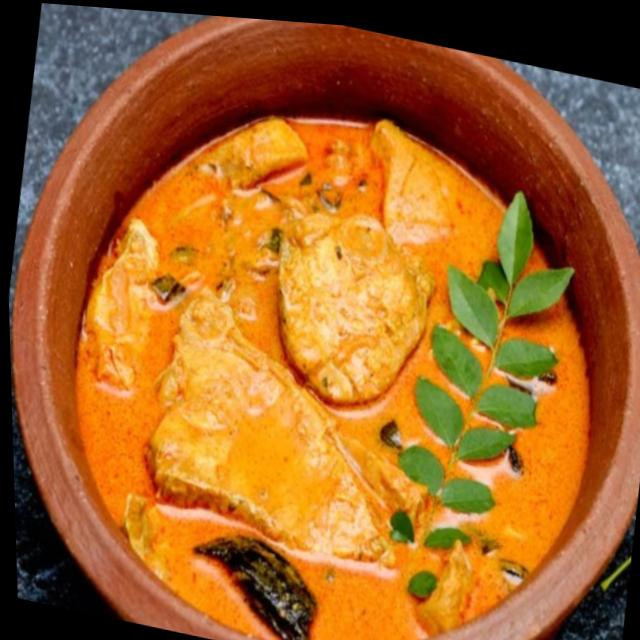FISH CURRY: (76, 118, 588, 640)
